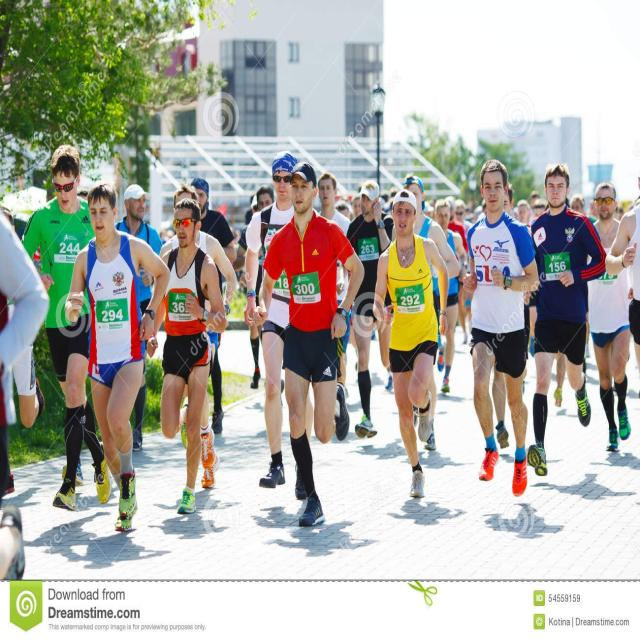body: (252, 160, 366, 530), (63, 180, 173, 534), (19, 144, 113, 511), (522, 161, 610, 478), (144, 196, 230, 516), (462, 157, 540, 500), (242, 150, 316, 500), (372, 187, 452, 499), (158, 184, 238, 487), (0, 477, 239, 578), (390, 172, 461, 452), (335, 178, 396, 439), (0, 202, 51, 477), (114, 184, 165, 452), (584, 183, 633, 455), (190, 177, 238, 436), (489, 179, 534, 451), (237, 184, 285, 410), (251, 498, 374, 564), (604, 175, 640, 398), (317, 170, 353, 390), (429, 198, 468, 394), (532, 448, 638, 502), (349, 428, 464, 474), (235, 192, 261, 390), (445, 196, 470, 346), (484, 499, 564, 544), (385, 493, 464, 531), (512, 192, 551, 230), (564, 195, 598, 225), (452, 198, 476, 240), (334, 187, 360, 221), (464, 197, 486, 226), (378, 190, 398, 209), (160, 222, 176, 244), (422, 196, 437, 218), (77, 190, 91, 202)
